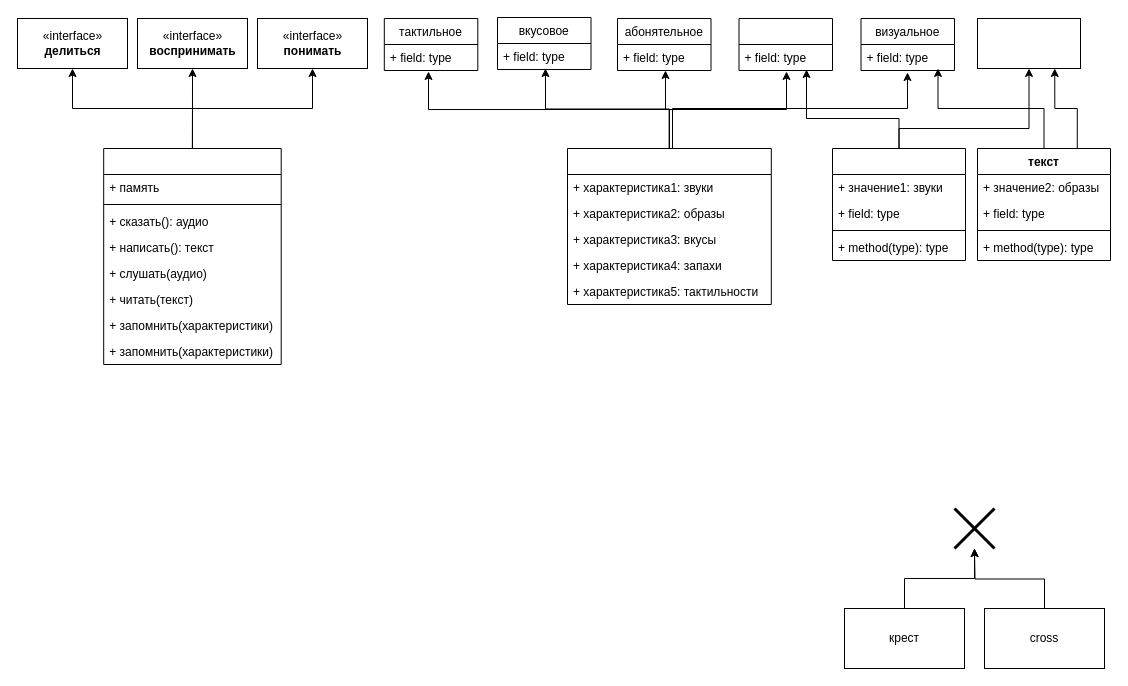
Some shapes in this 1128 by 686 pixel diagram are drawn without their labels. The shapes that lost their labels are listed below. From the top down, each one's box as (x1, y1, x2, y2) in pixels, then its label:
(738, 18, 832, 70): слуховое
(976, 18, 1080, 68): слово
(832, 148, 966, 260): аудио
(566, 148, 771, 304): объект
(103, 148, 281, 364): человек
